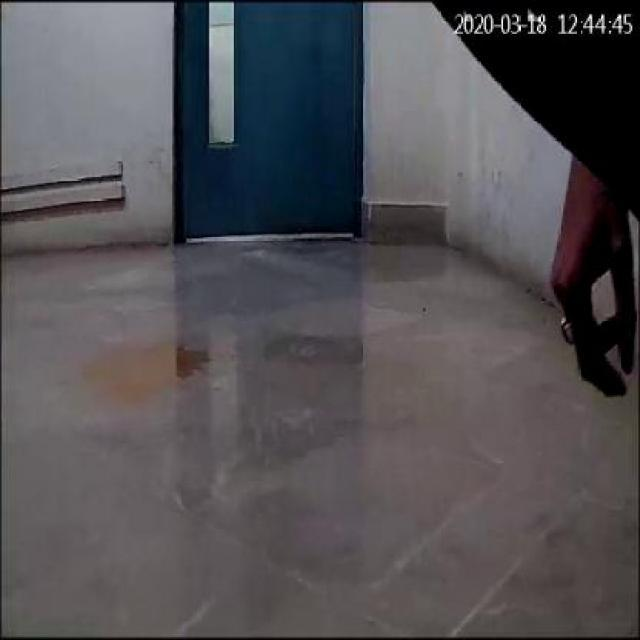spill: (86, 340, 209, 405)
